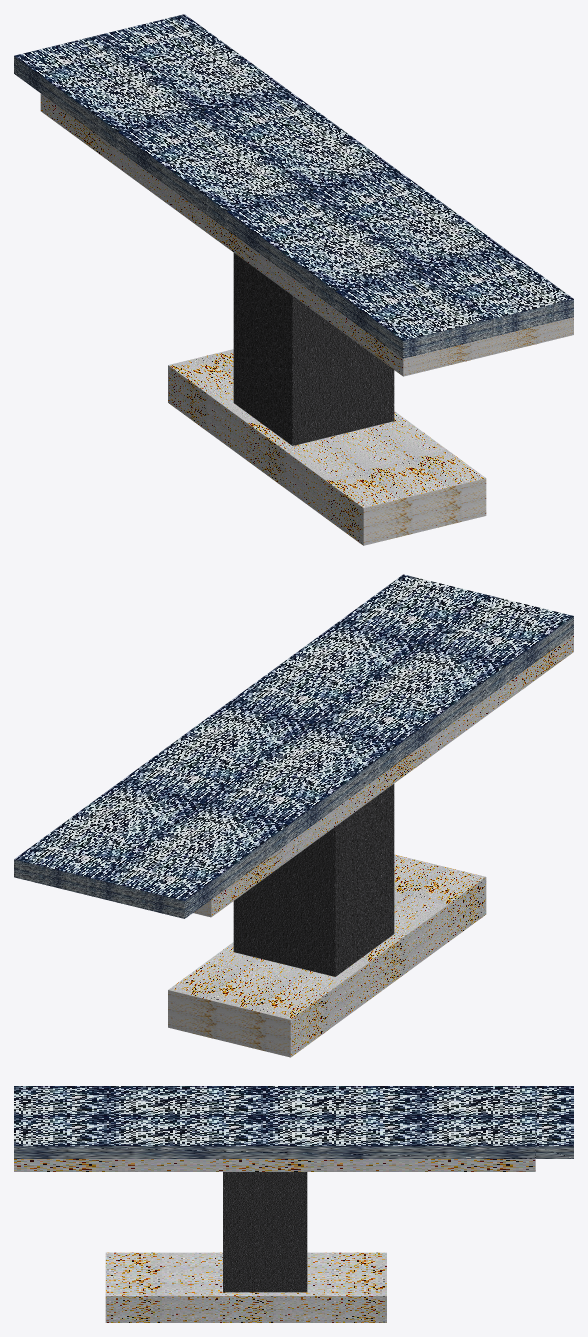
Rendered from table_surgensi.glb.
The picture shows the model from 3 angles, top to bottom: view 1: azimuth 30°, elevation 25°; view 2: azimuth 150°, elevation 25°; view 3: azimuth 270°, elevation 25°; orthographic projection. The views are drawn at different scales.
Parts seen in each view (by area): view 1: Куб.001, Куб.003, Куб.002, Куб; view 2: Куб.001, Куб.003, Куб.002, Куб; view 3: Куб.001, Куб.003, Куб.002, Куб.
Boxes of the visible parts, x1=… form: Куб.001: x1=14, y1=14, x2=573, y2=358; Куб.003: x1=168, y1=349, x2=486, y2=545; Куб.002: x1=233, y1=253, x2=394, y2=445; Куб: x1=40, y1=93, x2=573, y2=376; Куб.001: x1=14, y1=574, x2=573, y2=918; Куб.003: x1=168, y1=854, x2=486, y2=1057; Куб.002: x1=233, y1=784, x2=394, y2=976; Куб: x1=193, y1=634, x2=573, y2=917; Куб.001: x1=14, y1=1086, x2=573, y2=1158; Куб.003: x1=105, y1=1252, x2=386, y2=1322; Куб.002: x1=223, y1=1172, x2=307, y2=1292; Куб: x1=14, y1=1159, x2=535, y2=1171.
Bounding box in the file's own units: 19.87 × 28.66 × 78.48.
4 materials, 4 textured.
